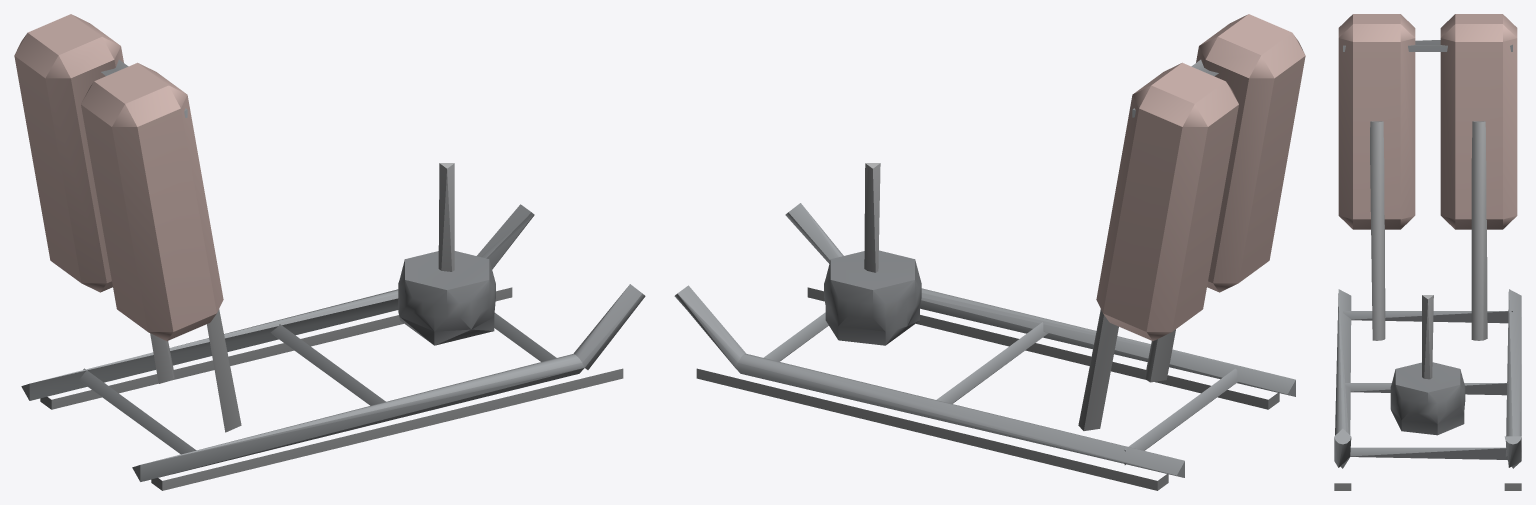
File: sled.lod2.glb
3 views of the same model, side by side, from view 1: azimuth 30°, elevation 25°; view 2: azimuth 150°, elevation 25°; view 3: azimuth 270°, elevation 25° (orthographic). The views are drawn at different scales.
Bounding box in the file's own units: 2.73 × 1.95 × 1.1.
